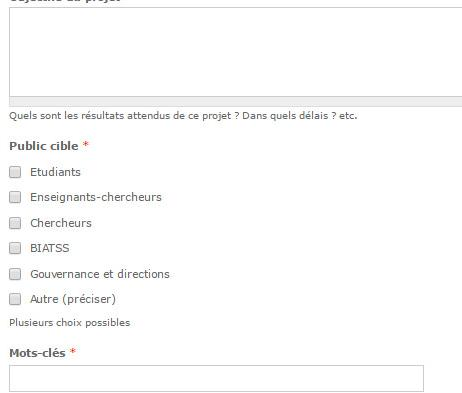checkbox: (7, 215, 26, 233), (5, 266, 24, 282), (5, 164, 22, 180), (7, 189, 22, 207), (8, 240, 22, 257), (7, 292, 24, 306)
checkbox_with_label: (4, 187, 165, 209), (2, 264, 170, 285), (4, 289, 116, 309), (3, 212, 93, 235), (3, 162, 80, 182), (4, 238, 70, 258)
field: (5, 6, 462, 100), (7, 361, 431, 393)
field_with_label: (5, 346, 433, 393)
